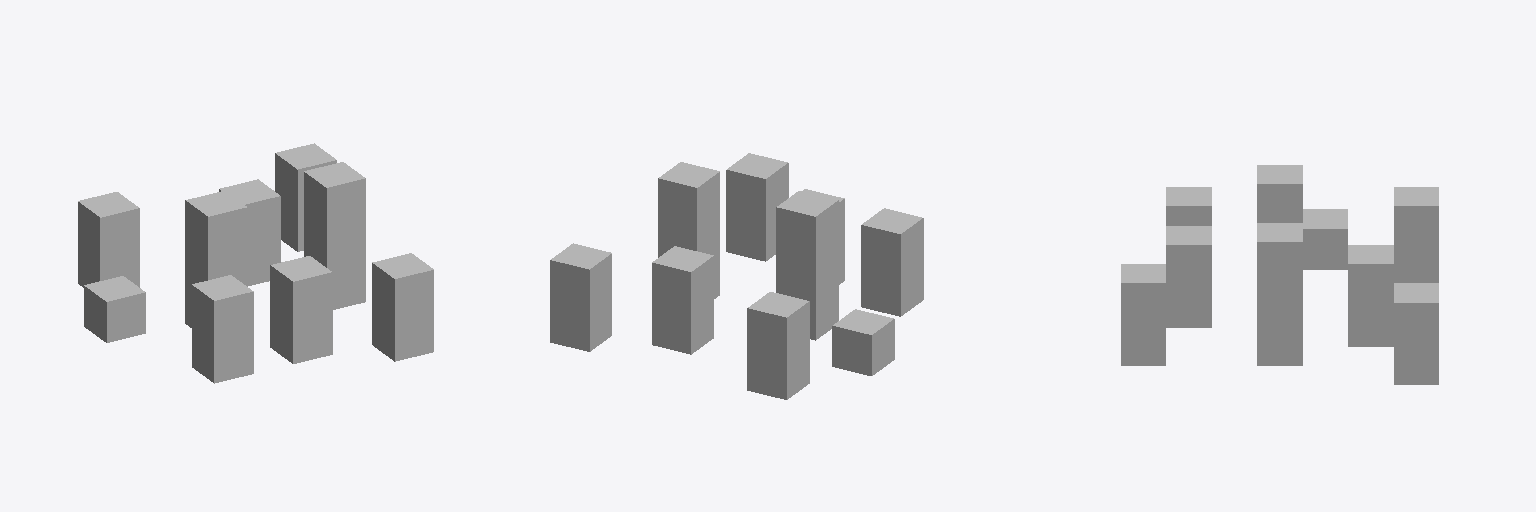
The model's file is grass-1.obj.
The picture shows the model from 3 angles: view 1: azimuth 30°, elevation 25°; view 2: azimuth 150°, elevation 25°; view 3: azimuth 270°, elevation 25°; orthographic projection.
Parts seen in each view (by area): view 1: object 1; view 2: object 1; view 3: object 1.
Boxes of the visible parts, x1,y1,x2,y2 form: object 1: [78, 143, 433, 383]; object 1: [550, 153, 923, 399]; object 1: [1121, 165, 1438, 384].
Bounding box in the file's own units: 0.7 × 0.3 × 0.7.